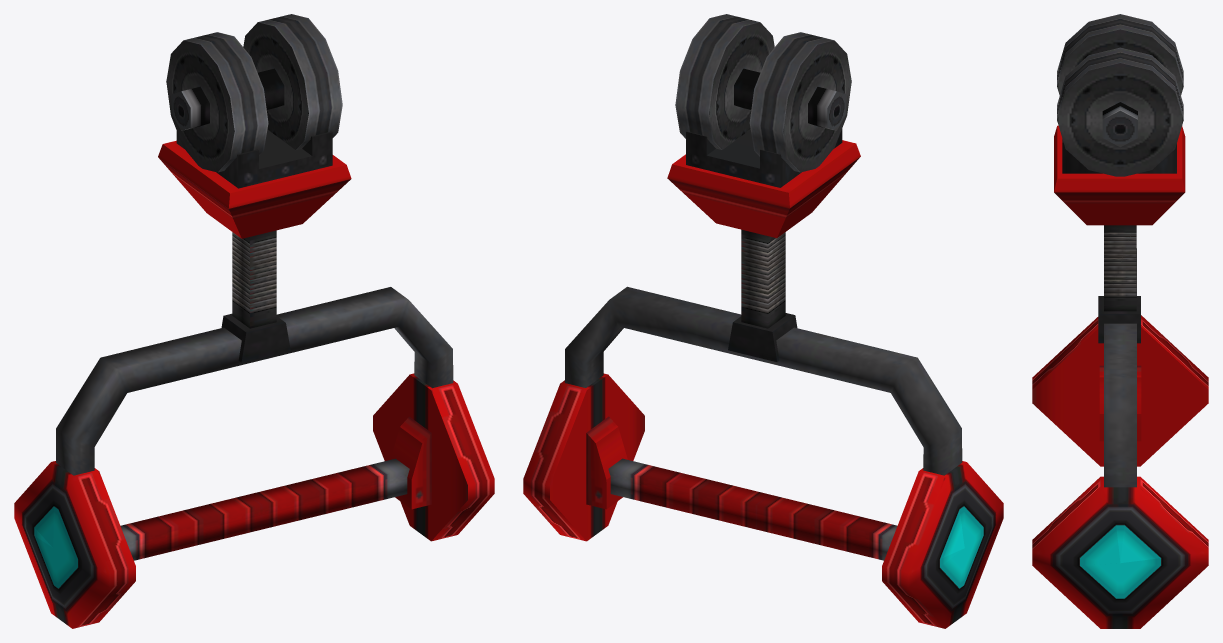
The model's file is cmn_obj_pulley_SD.obj.
3 views of the same model, side by side, from view 1: azimuth 30°, elevation 25°; view 2: azimuth 150°, elevation 25°; view 3: azimuth 270°, elevation 25° (orthographic). The views are drawn at different scales.
Visible parts, largest first — view 1: polygon0, polygon1; view 2: polygon0, polygon1; view 3: polygon0, polygon1.
Boxes of the visible parts, <box> form: polygon0: <box>14,14,494,628</box>; polygon1: <box>34,506,77,588</box>; polygon0: <box>523,14,1003,628</box>; polygon1: <box>940,506,983,588</box>; polygon0: <box>1032,14,1208,628</box>; polygon1: <box>1080,525,1160,598</box>.
Bounding box in the file's own units: 8.51 × 10.97 × 3.48.
2 materials, 2 textured.
